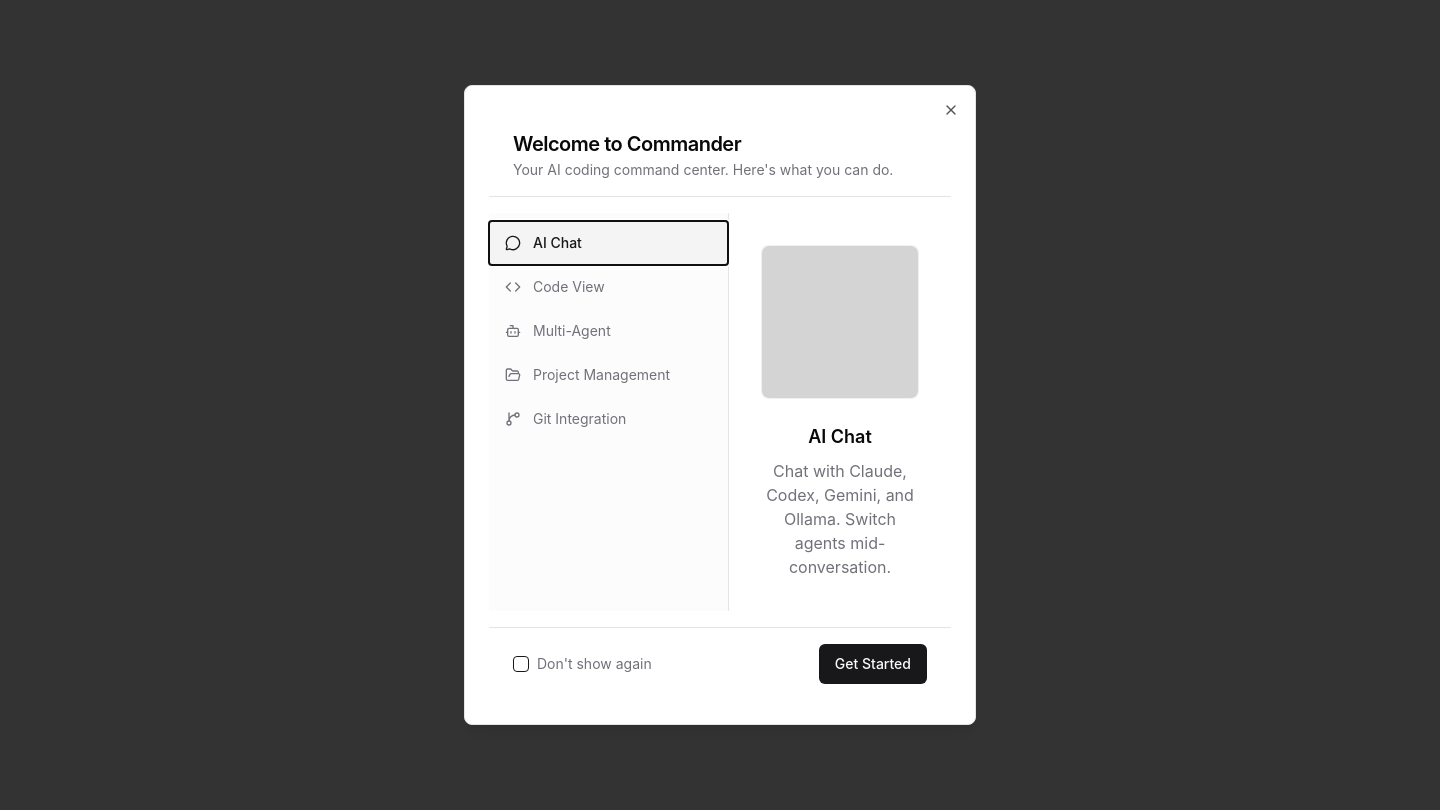
Test: OnboardingModal › clicking a feature updates the right panel
This screenshot has width=1440, height=810.
expect the heading with test id "onboarding-preview-title" reads "AI Chat": met, box x1=808 y1=426 x2=872 y2=447
// Click Git Integration
Click the button with test id "onboarding-feature-git". click: click(608, 419)
box: x1=489 y1=397 x2=728 y2=441
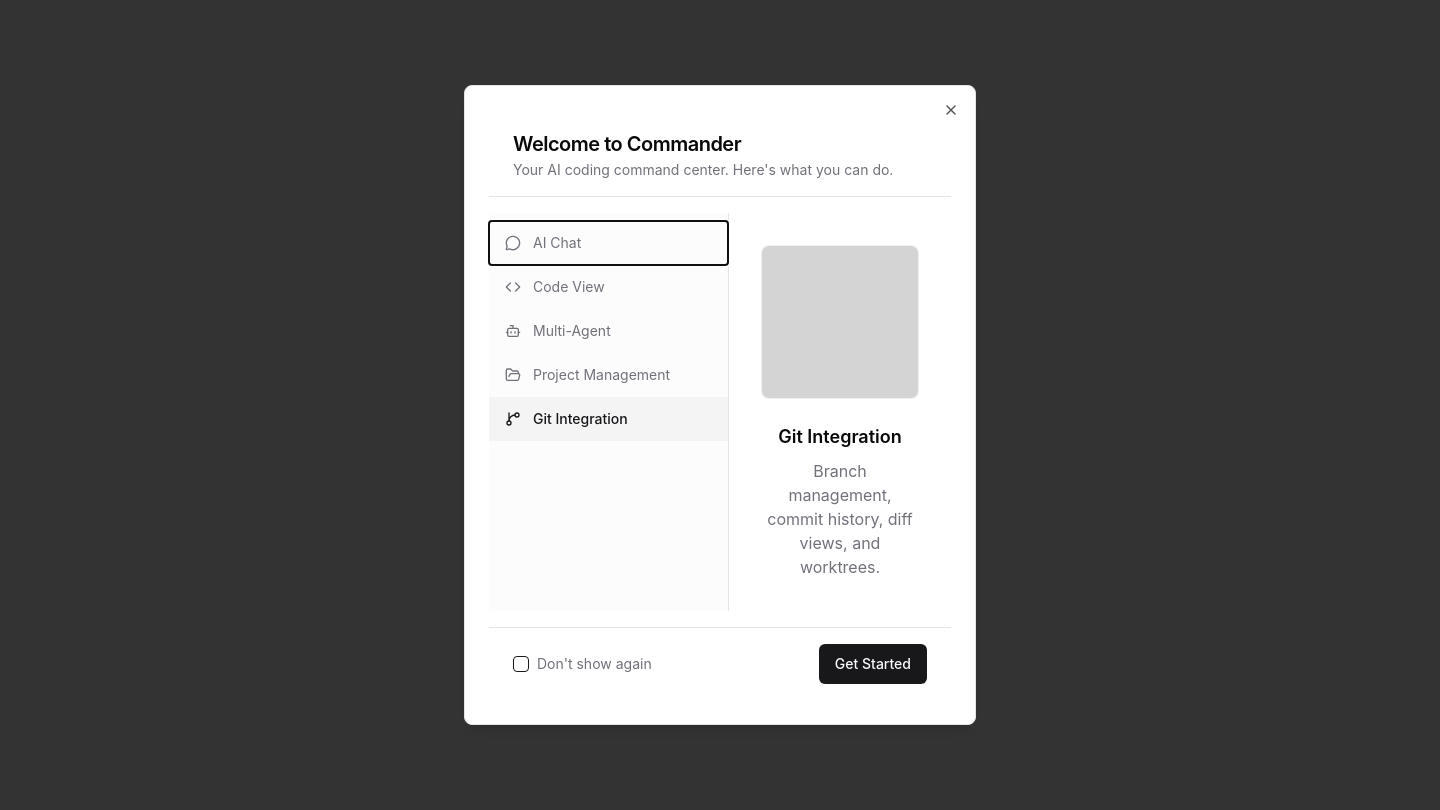
expect the heading with test id "onboarding-preview-title" reads "Git Integration": met, box x1=778 y1=426 x2=902 y2=447
expect the text with test id "onboarding-preview-description" shows "Branch management": met, box x1=767 y1=461 x2=913 y2=577
